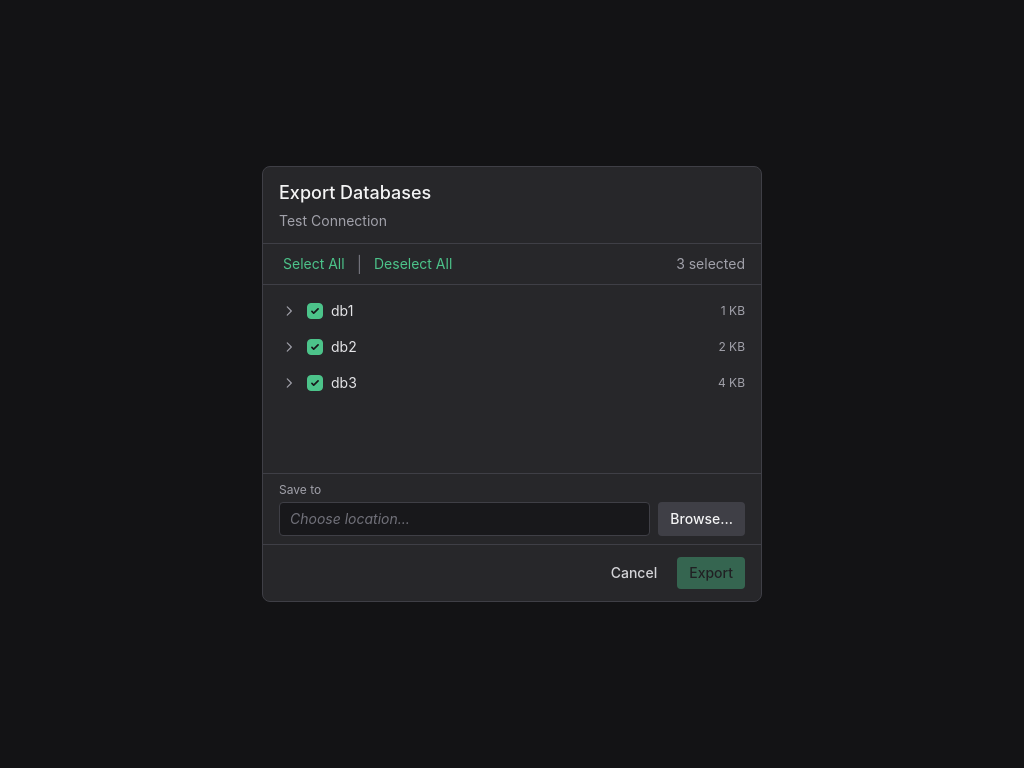
Test: UnifiedExportModal › connection scope (no databaseName) › should allow deselecting all
Click the button "Deselect All". click: [413, 264]
box: [370,254,456,274]
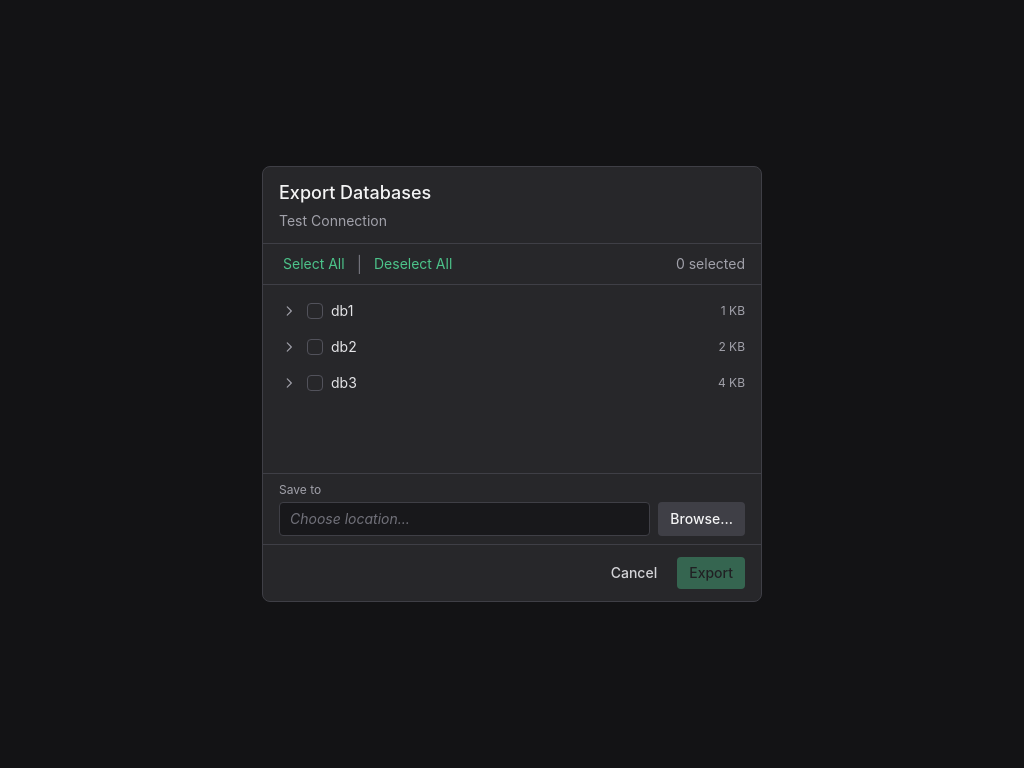
Expected: the text "0 selected" is shown, [676,254,745,274]
